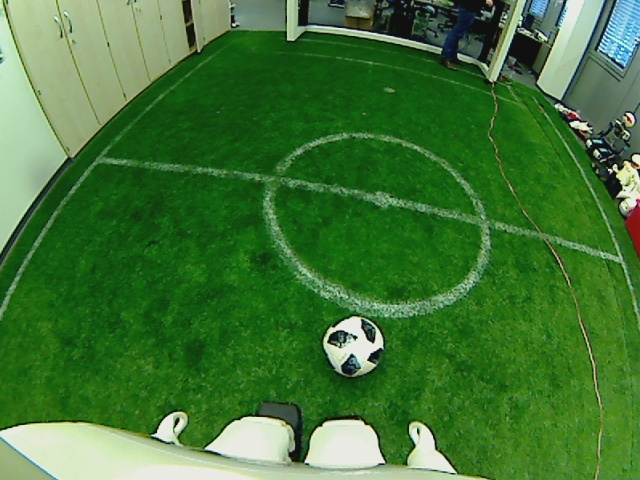ball: (322, 312, 387, 378)
